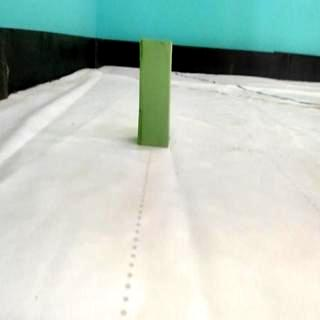greenbox: (137, 38, 173, 149)
